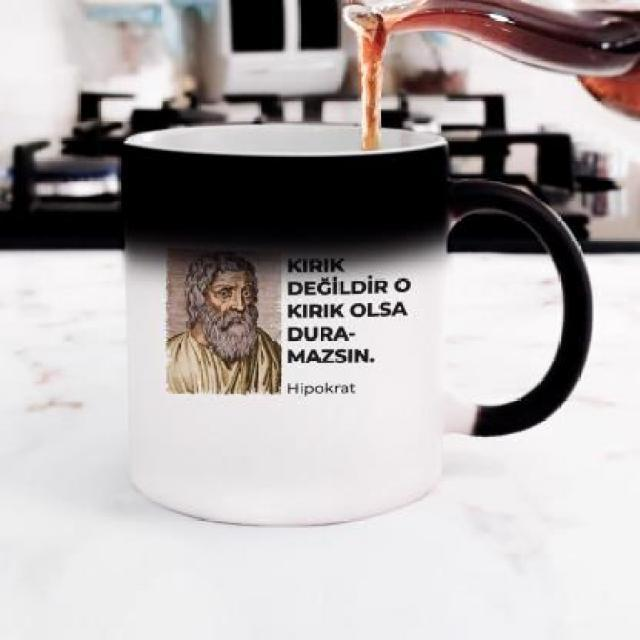taza: (120, 121, 594, 528)
